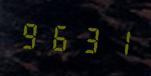nine: (18, 16, 45, 53)
one: (102, 21, 129, 59)
six: (46, 18, 73, 55)
three: (74, 19, 101, 57)
